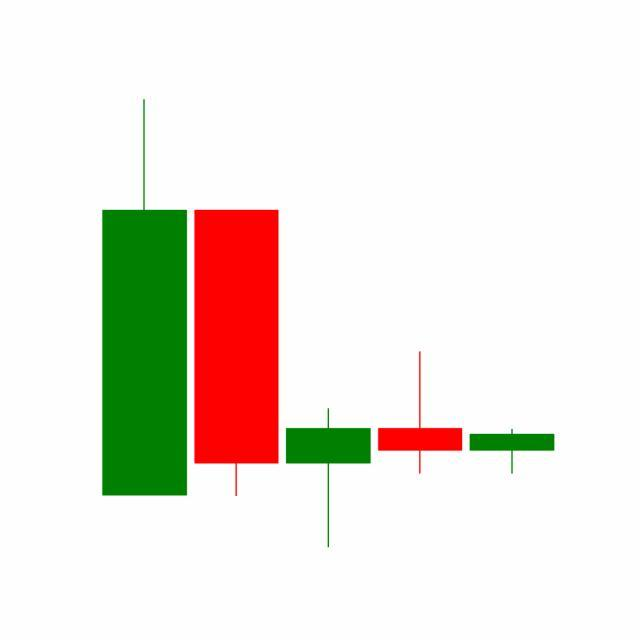Spinning Top: (374, 350, 468, 476)
